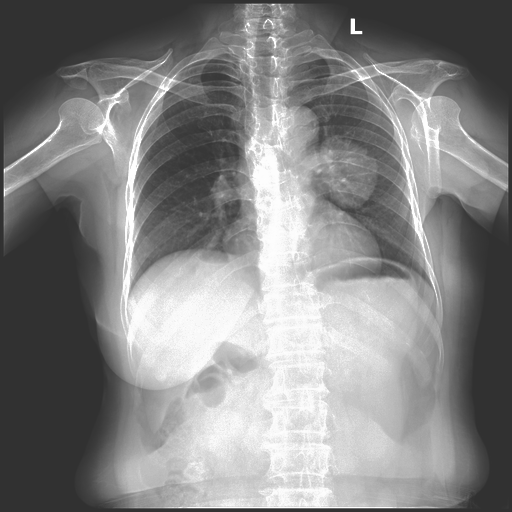Consolidation: (271, 105, 320, 149)
Nodule/Mass: (221, 226, 384, 276)
Pleural thickening: (319, 139, 379, 208)
Pulmonary fibrosis: (306, 134, 379, 210)
